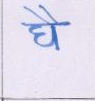o_matra: (49, 9, 60, 49)
